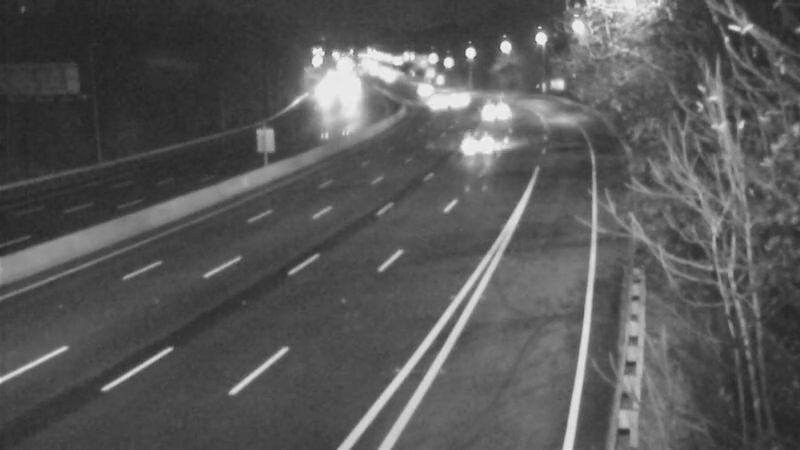vehicle: (429, 74, 479, 124), (406, 77, 456, 127), (469, 81, 519, 131), (442, 114, 492, 164)
